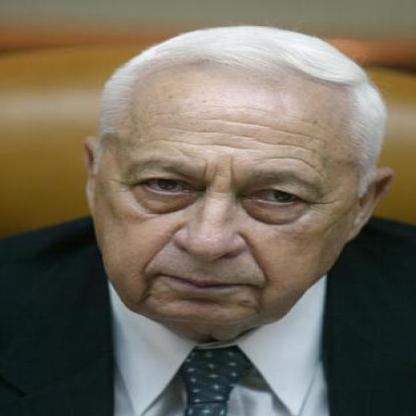face: (94, 25, 367, 333)
